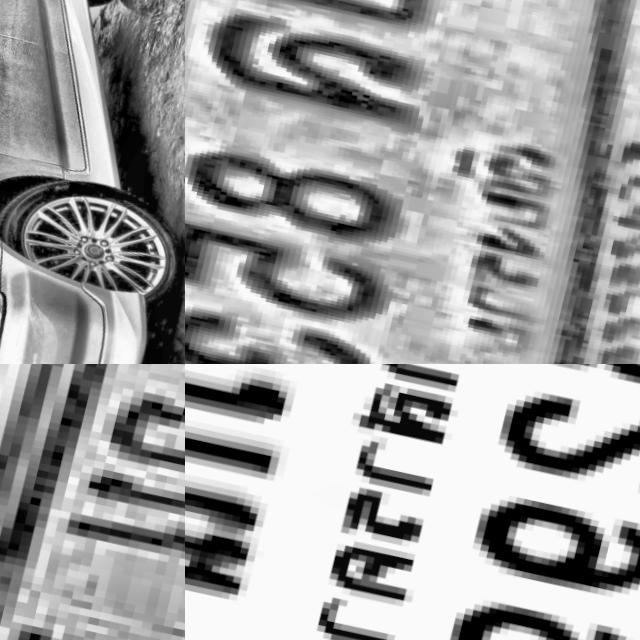license-plate: (185, 0, 640, 364), (185, 364, 640, 640), (0, 364, 185, 640)
